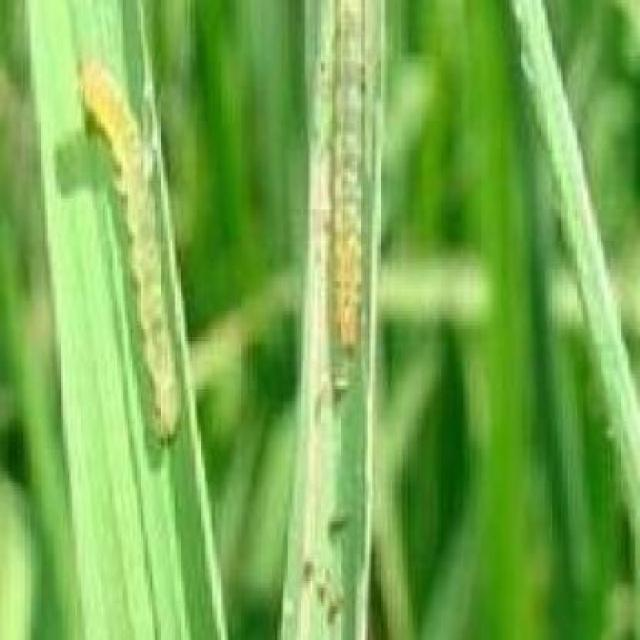leaf-folder: (57, 45, 218, 462), (277, 7, 386, 407)
